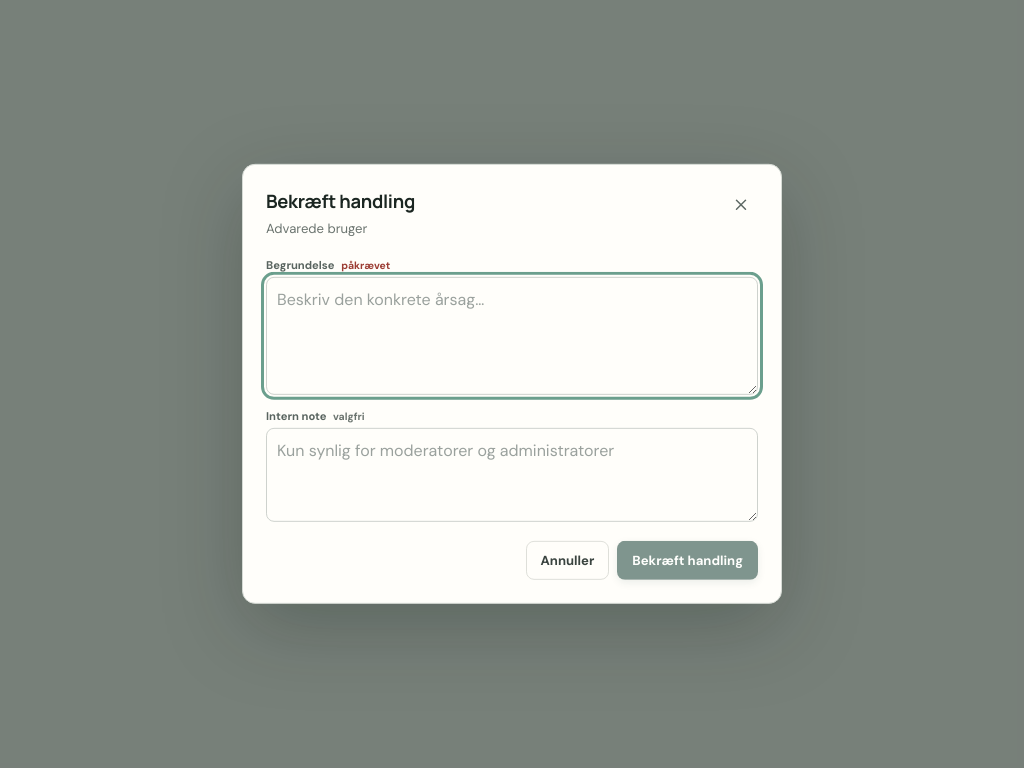
it: ActionDialog › viser mutationsfejl i dialogen
Type "Konkret årsag" into the text box labelled "Begrundelse påkrævet" at (512, 336), box [266,277,758,395]
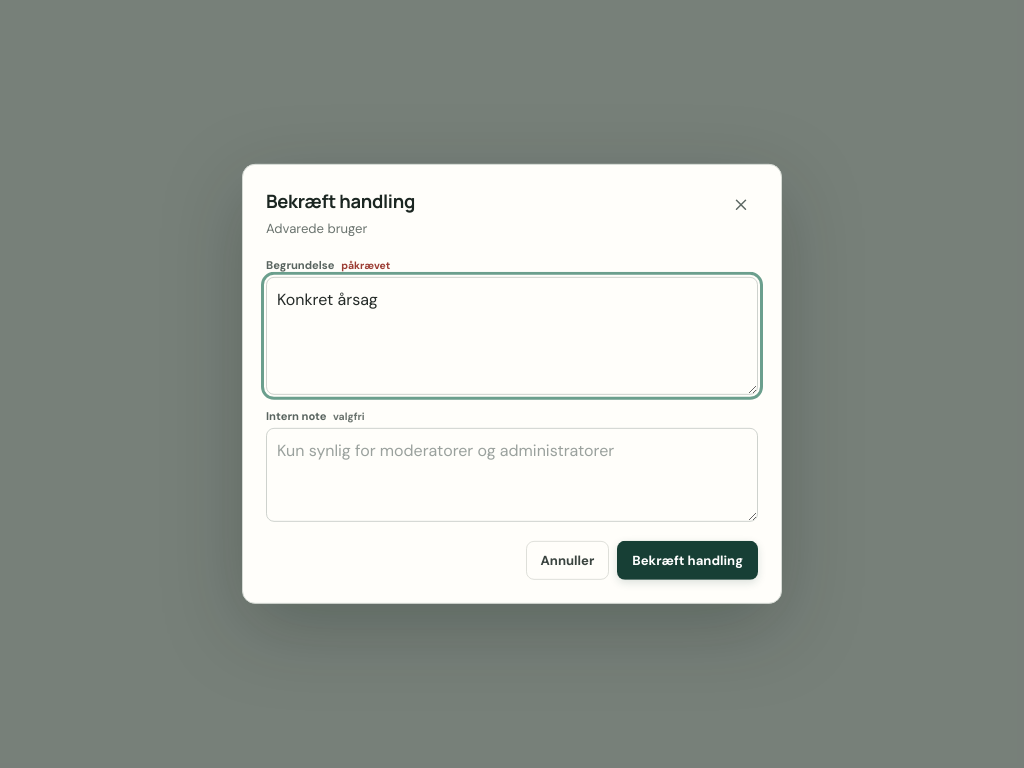
Click the button "Bekræft handling" at (688, 561), box [617,541,758,580]
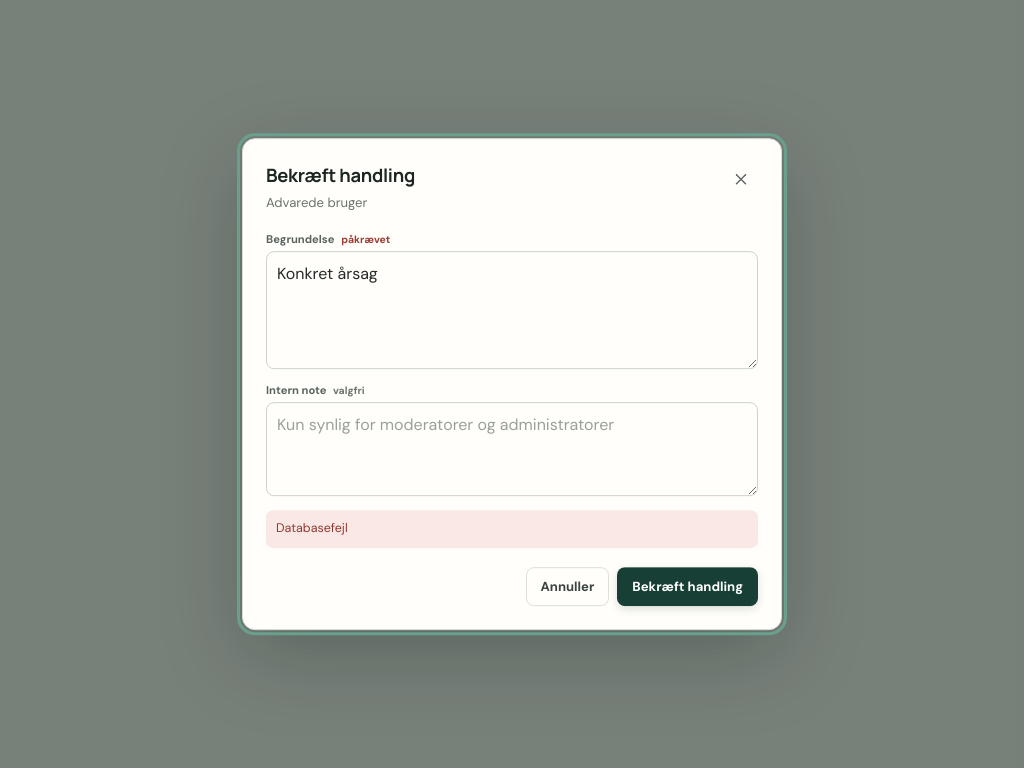
Now the message reads "Databasefejl", box [276,520,348,536]
